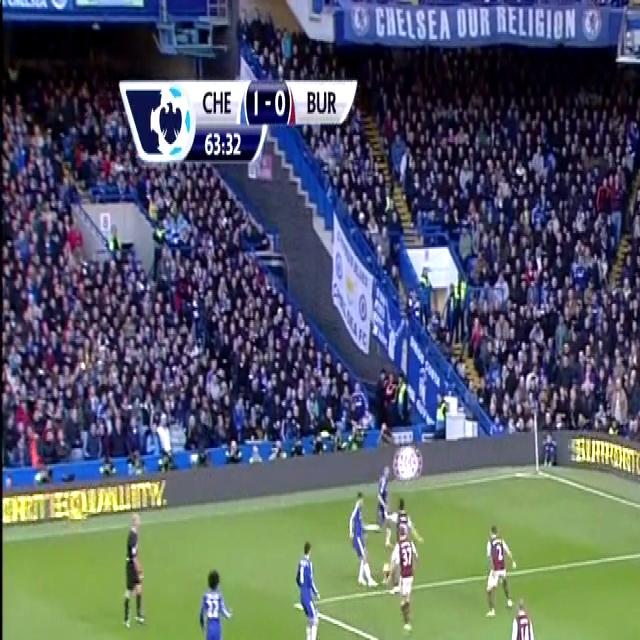referee: (118, 502, 152, 634)
soccer-player: (476, 514, 514, 626), (389, 522, 423, 640), (287, 530, 323, 640), (188, 554, 234, 640), (344, 485, 374, 593), (503, 597, 544, 640), (626, 586, 640, 640)
